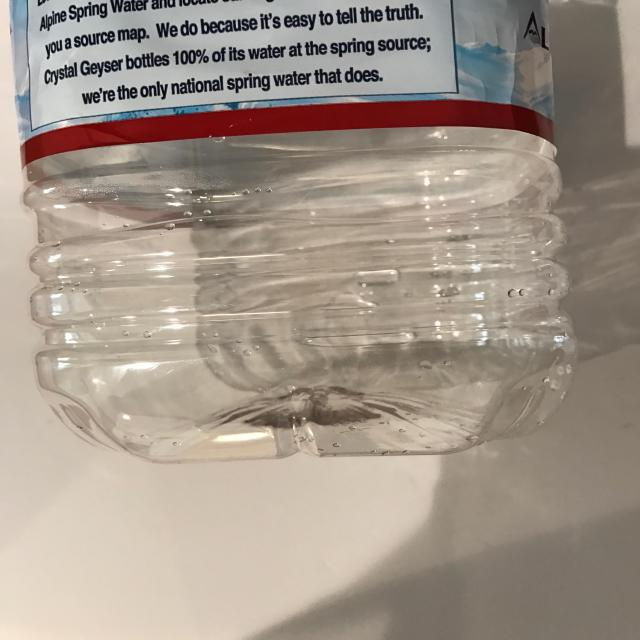Plastic: (0, 0, 590, 512)
